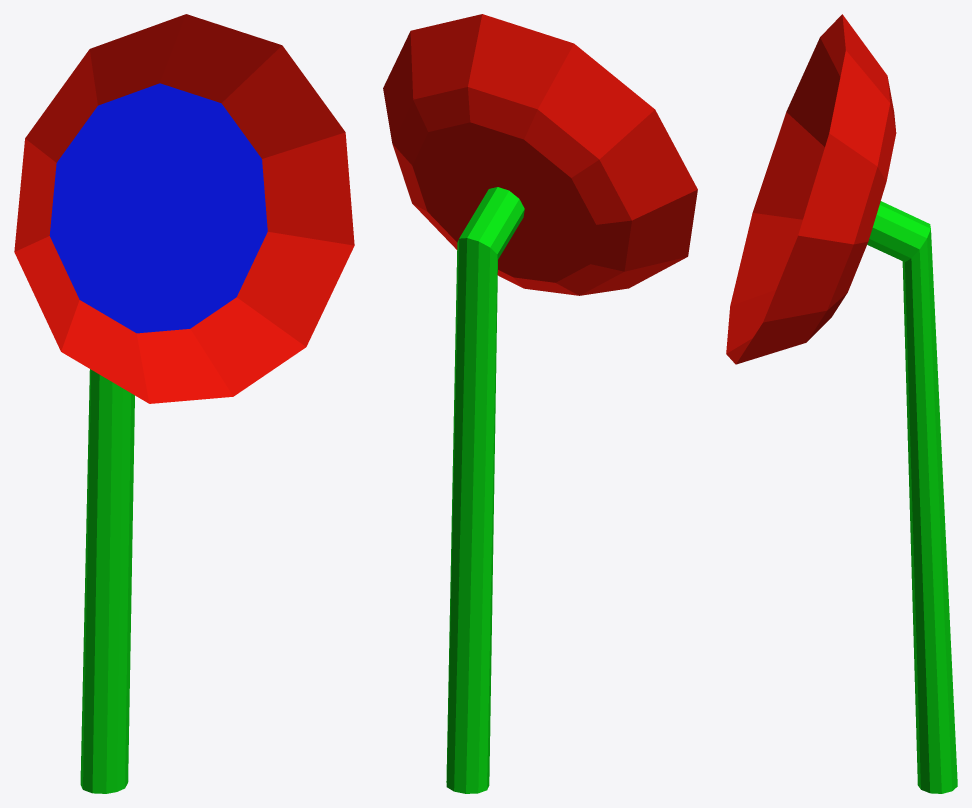
File: FlowerTwo(Sunflower).fbx
3 renders of one model, left to right at view 1: azimuth 30°, elevation 25°; view 2: azimuth 150°, elevation 25°; view 3: azimuth 270°, elevation 25°, orthographic. The views are drawn at different scales.
Visible parts, largest first — view 1: Cylinder; view 2: Cylinder; view 3: Cylinder.
Part boxes in pixels (bbox=[...]): Cylinder: bbox=[14, 14, 354, 793]; Cylinder: bbox=[383, 14, 697, 793]; Cylinder: bbox=[726, 14, 957, 793].
Size of the model in its own units: 217 by 490 by 137.
